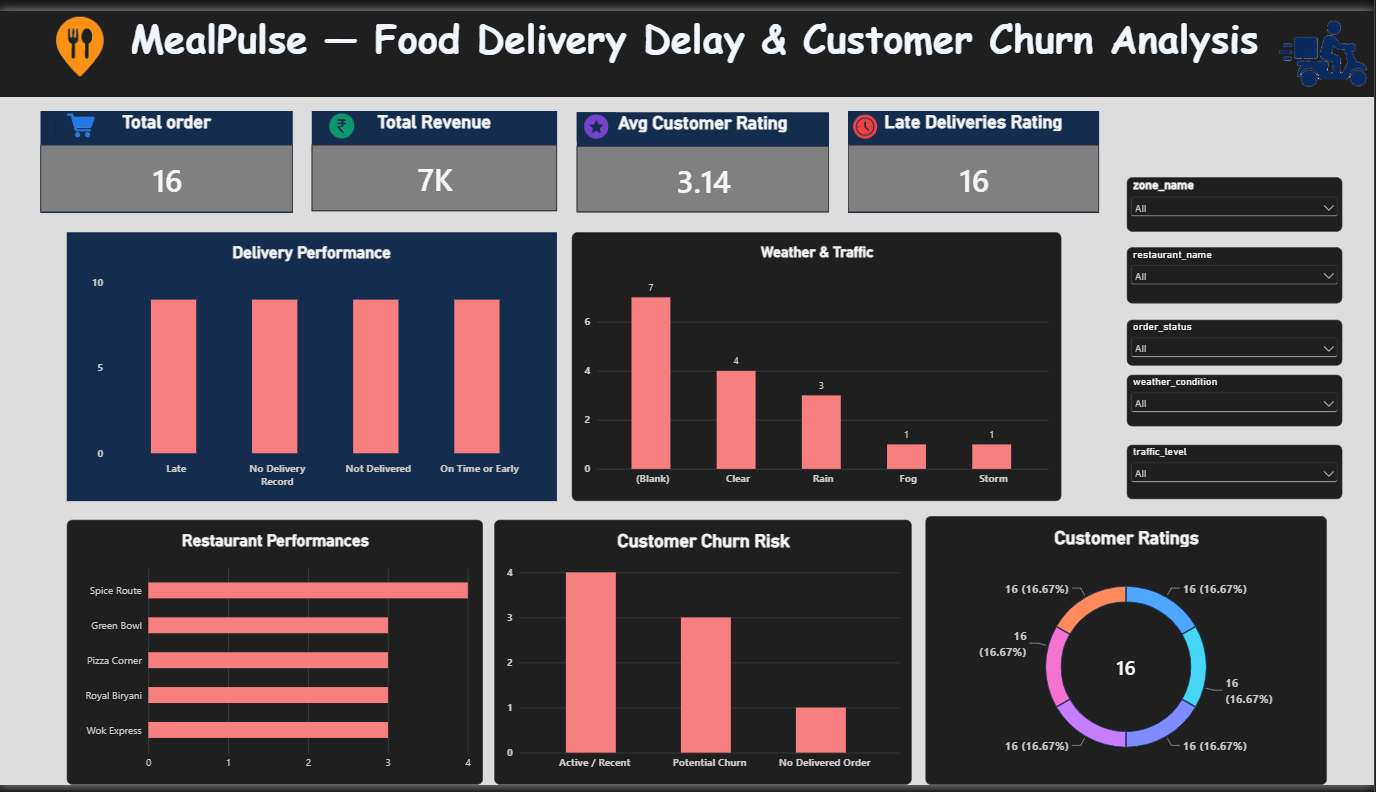

What the dashboard file says about the page in this screenshot:
{"tool":"powerbi","page":{"name":"Page 1","canvas":[1920,1080],"ordinal":0},"visuals":[{"type":"shape","title":"MealPulse — Food Delivery Delay & Customer Churn Analysis","box":[0,0,1920.4,120.3],"z":0},{"type":"cardVisual","title":"Total order","fields":{"Data":["CountNonNull(Orders.order_id)"]},"box":[60,140,352,142],"z":1000},{"type":"cardVisual","title":"Total Revenue","fields":{"Data":["Sum(Orders.order_amount)"]},"box":[438,140,342,140],"z":2000},{"type":"cardVisual","title":"Late Deliveries Rating","fields":{"Data":["CountNonNull(Dashboard_Ready.delivery_performance)"]},"box":[1186,140,350,142],"z":3000},{"type":"cardVisual","title":"Avg Customer Rating","fields":{"Data":["Avg(Customer_Feedback.customer_rating)"]},"box":[808,142,352,140],"z":4000},{"type":"clusteredColumnChart","title":"Delivery Performance","fields":{"Category":["Dashboard_Ready.delivery_performance"],"Y":["CountNonNull(Deliveries.order_id)"]},"box":[96,308,683.7,375],"z":5000},{"type":"columnChart","title":"Weather & Traffic","fields":{"Category":["Deliveries.weather_condition"],"Y":["CountNonNull(Orders.order_id)"]},"box":[800.7,308.7,683,375],"z":6000},{"type":"donutChart","title":"Customer Ratings","fields":{"Category":["Dashboard_Ready.customer_rating"],"Y":["CountNonNull(Orders.order_id)"]},"box":[1294.2,704.7,559.9,375],"z":7000},{"type":"clusteredBarChart","title":"Restaurant Performances","fields":{"Category":["Dashboard_Ready.restaurant_name"],"Y":["CountNonNull(Dashboard_Ready.order_id)"]},"box":[95.9,709.9,580.8,369.8],"z":8000},{"type":"clusteredColumnChart","title":"Customer Churn Risk","fields":{"Category":["Dashboard_Ready.churn_proxy_30d"],"Y":["Count(Dashboard_Ready.customer_id)"]},"box":[692.4,709.9,582.6,369.8],"z":9000},{"type":"slicer","fields":{"Values":["Delivery_Zones.zone_name"]},"box":[1575,232,300.5,76.2],"z":10000},{"type":"slicer","fields":{"Values":["Dashboard_Ready.restaurant_name"]},"box":[1574.6,329.3,300.5,78.2],"z":11000},{"type":"slicer","fields":{"Values":["Dashboard_Ready.order_status"]},"box":[1574.6,430.2,300.5,63.8],"z":12000},{"type":"slicer","fields":{"Values":["Deliveries.weather_condition"]},"box":[1574.6,508.4,300.5,72],"z":13000},{"type":"slicer","fields":{"Values":["Delivery_Zones.traffic_level"]},"box":[1574.6,605.1,300.5,76.2],"z":14000},{"type":"textbox","box":[0,0,1920.4,120.3],"z":15000},{"type":"image","box":[41.9,0,144.8,99.4],"z":16000},{"type":"image","box":[80,140,69.8,40.1],"z":17000},{"type":"image","box":[452,140,55.8,41.9],"z":18000},{"type":"image","box":[808,142,54,40],"z":18001},{"type":"image","box":[1186,142,48,40],"z":18002},{"type":"image","box":[1778,4,142,112],"z":18003}]}

Visuals, with their boxes in screenshot pixels (x1, y1, x2, y2), scaled from the page's 1920x1080 canvas onto the 1376x792 screenshot:
"MealPulse — Food Delivery Delay & Customer Churn Analysis" shape: bbox(0, 0, 1375, 88)
"Total order" cardVisual: bbox(43, 103, 295, 207)
"Total Revenue" cardVisual: bbox(314, 103, 559, 205)
"Late Deliveries Rating" cardVisual: bbox(850, 103, 1101, 207)
"Avg Customer Rating" cardVisual: bbox(579, 104, 831, 207)
"Delivery Performance" clusteredColumnChart: bbox(69, 226, 559, 501)
"Weather & Traffic" columnChart: bbox(574, 226, 1063, 501)
"Customer Ratings" donutChart: bbox(928, 517, 1329, 791)
"Restaurant Performances" clusteredBarChart: bbox(69, 521, 485, 791)
"Customer Churn Risk" clusteredColumnChart: bbox(496, 521, 914, 791)
slicer - Delivery_Zones.zone_name: bbox(1129, 170, 1344, 226)
slicer - Dashboard_Ready.restaurant_name: bbox(1128, 241, 1344, 299)
slicer - Dashboard_Ready.order_status: bbox(1128, 315, 1344, 362)
slicer - Deliveries.weather_condition: bbox(1128, 373, 1344, 426)
slicer - Delivery_Zones.traffic_level: bbox(1128, 444, 1344, 500)
textbox: bbox(0, 0, 1375, 88)
image: bbox(30, 0, 134, 73)
image: bbox(57, 103, 107, 132)
image: bbox(324, 103, 364, 133)
image: bbox(579, 104, 618, 133)
image: bbox(850, 104, 884, 133)
image: bbox(1274, 3, 1375, 85)
